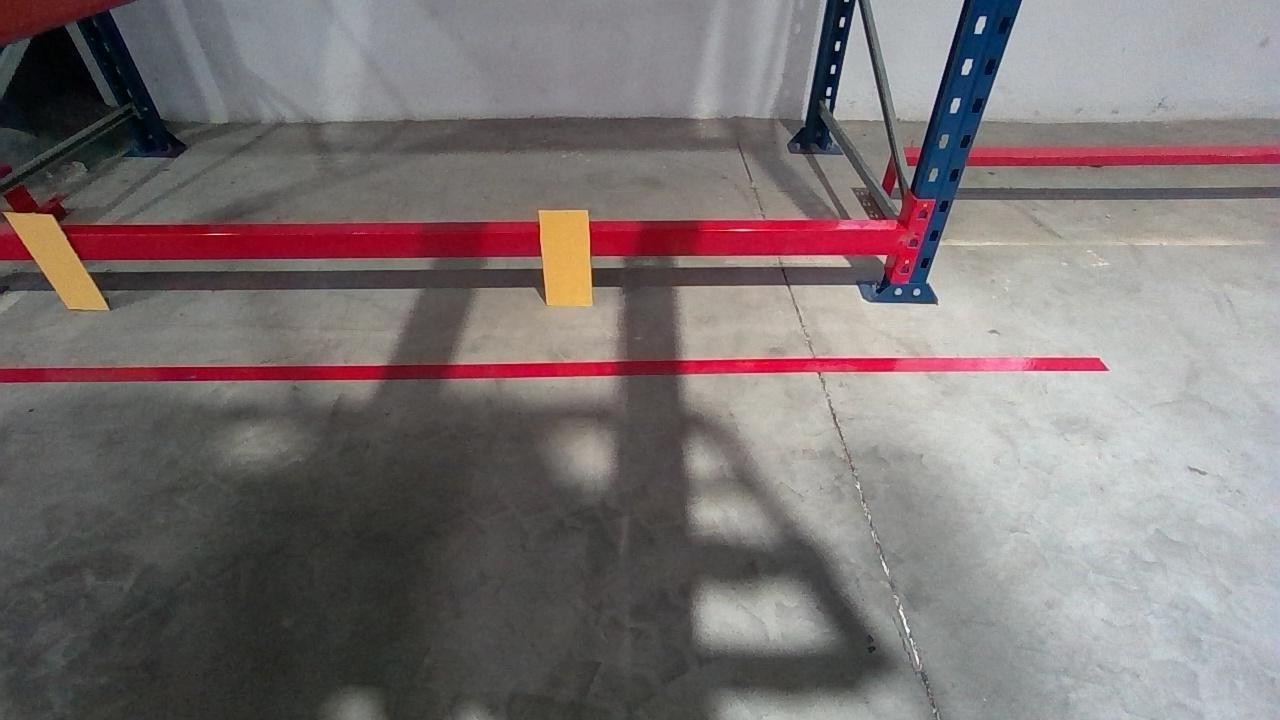h_rack: (2, 230, 915, 259)
orange_strip: (2, 212, 108, 309), (537, 209, 593, 306)
red_line: (2, 353, 1107, 381)
